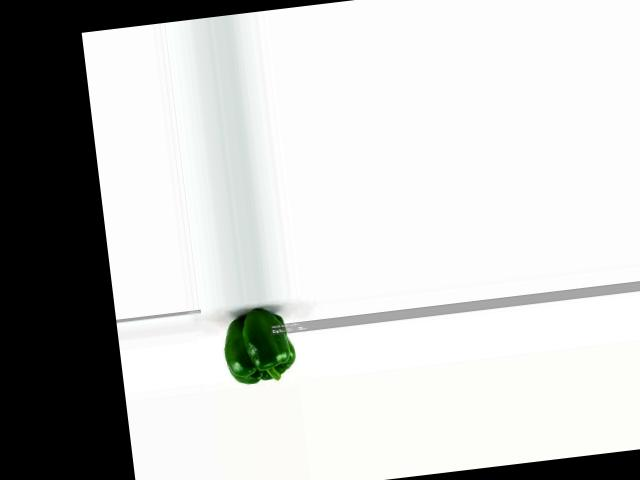bell_pepper: (216, 302, 297, 390)
